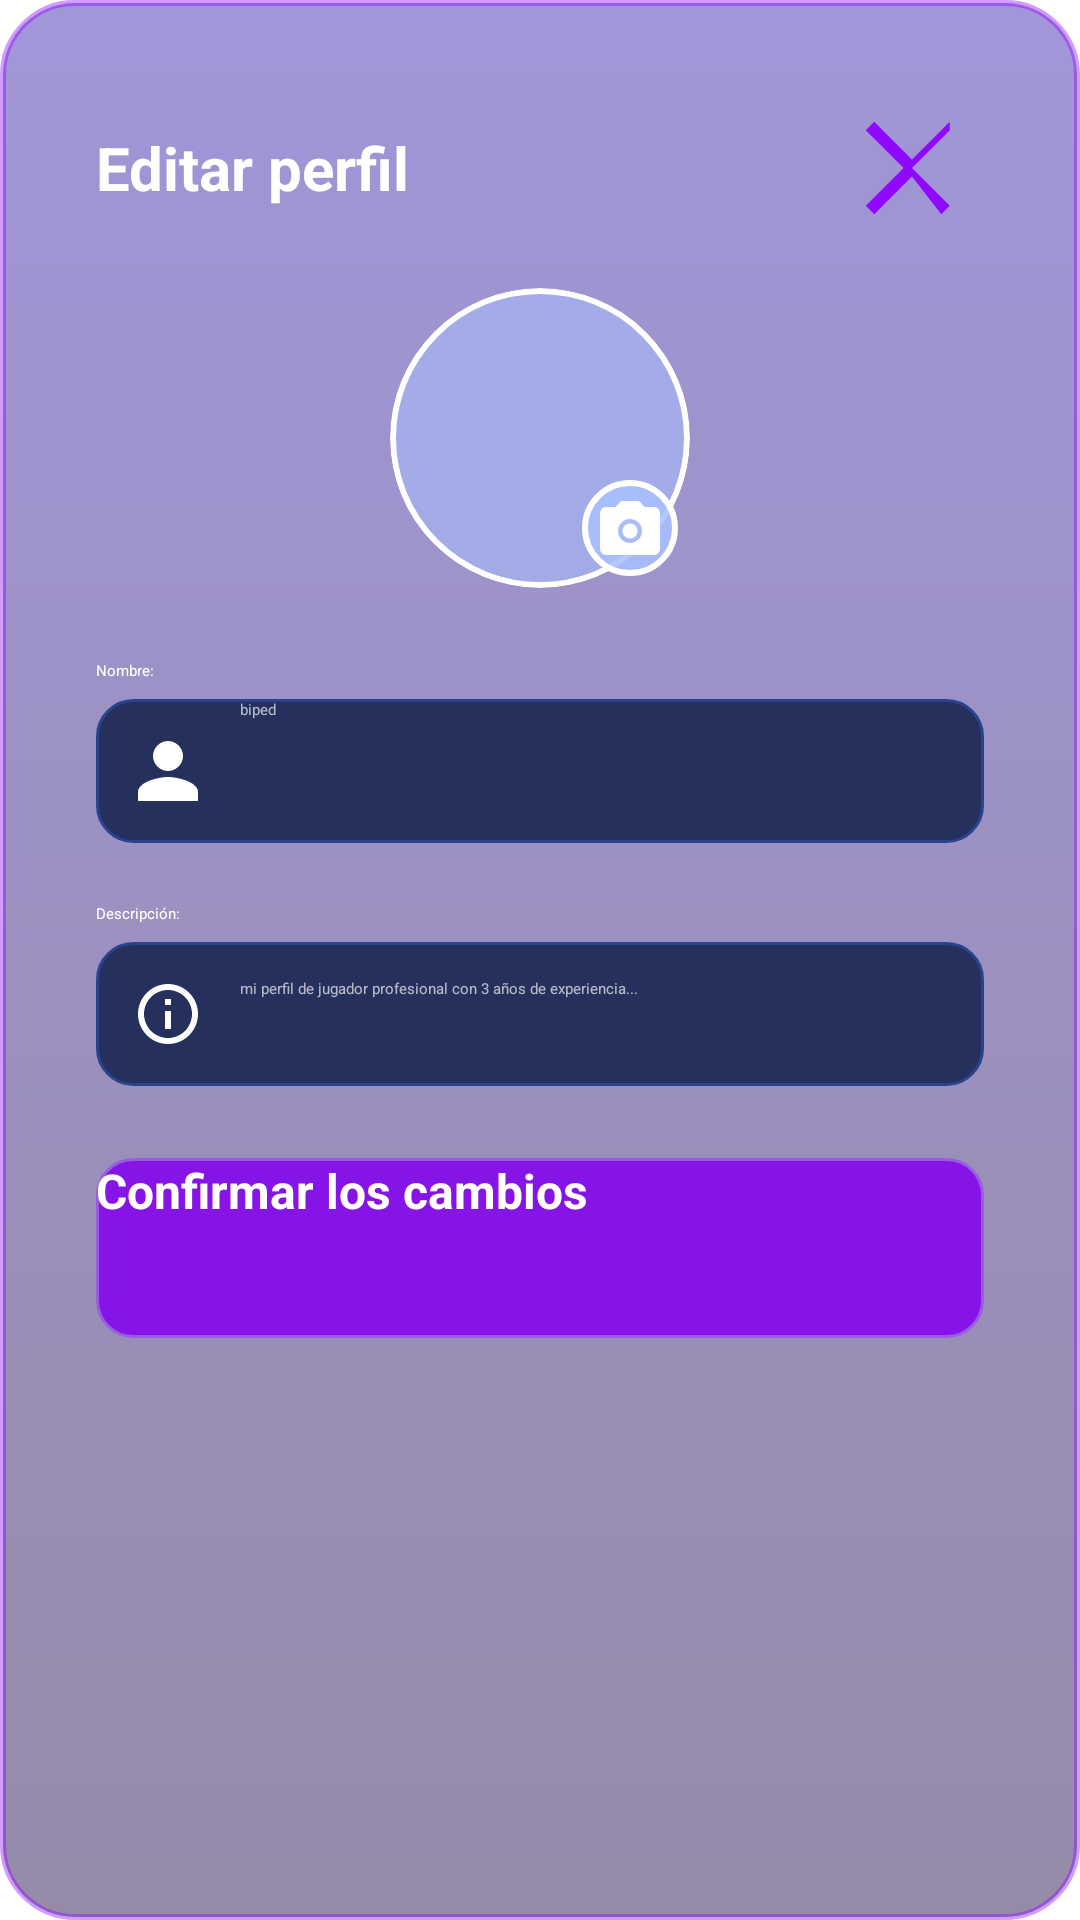

Icons on this 1080 × 1920 Android screen, each with the point to tap as point (x, y):
camara: point (630, 528)
Cerrar: point (908, 168)
